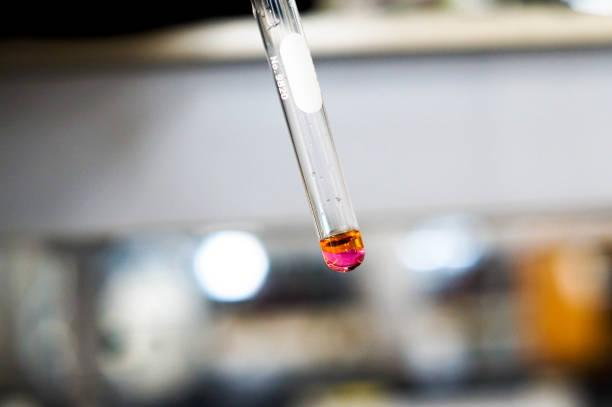Test tube: (251, 8, 367, 288)
